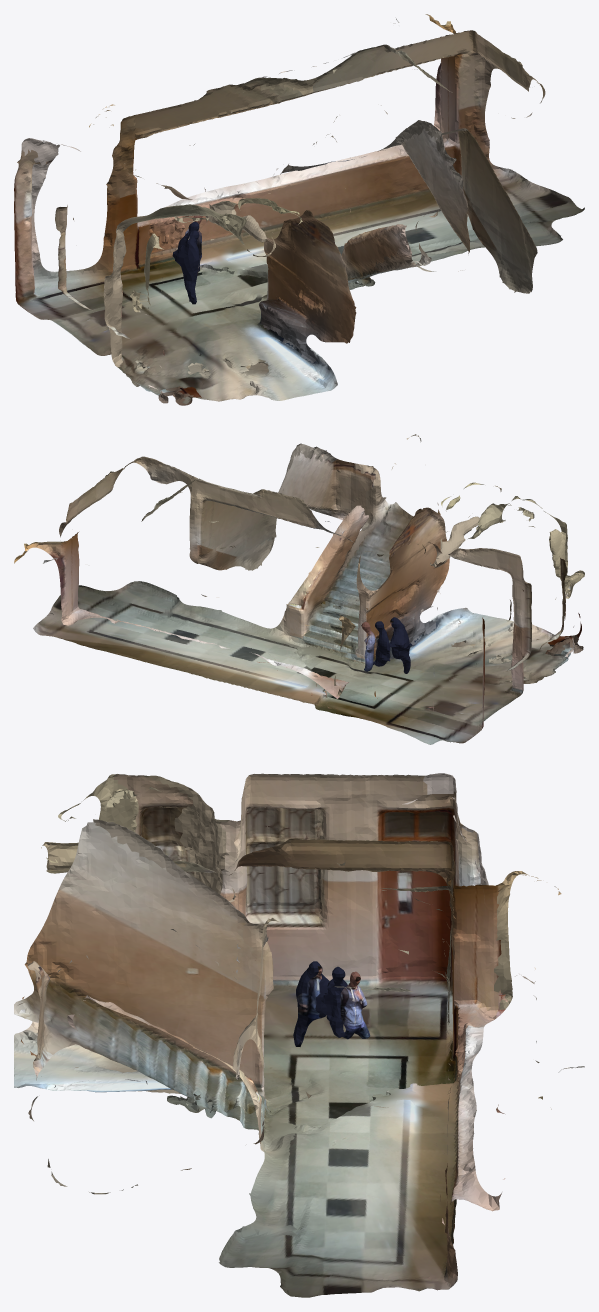
3 renders of one model, top to bottom at view 1: azimuth 30°, elevation 25°; view 2: azimuth 150°, elevation 25°; view 3: azimuth 270°, elevation 25°, orthographic. The views are drawn at different scales.
Size of the model in its own units: 11.8 by 5.08 by 8.43.
Materials: 1 (1 with a texture image).
